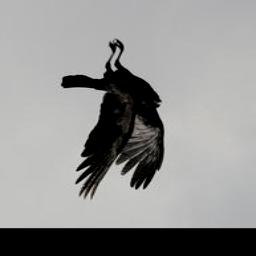Crow: (60, 36, 166, 202)
